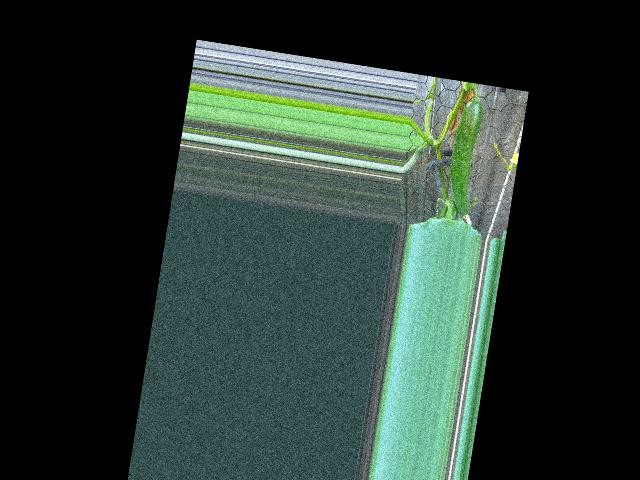cucumber: (442, 97, 485, 214)
